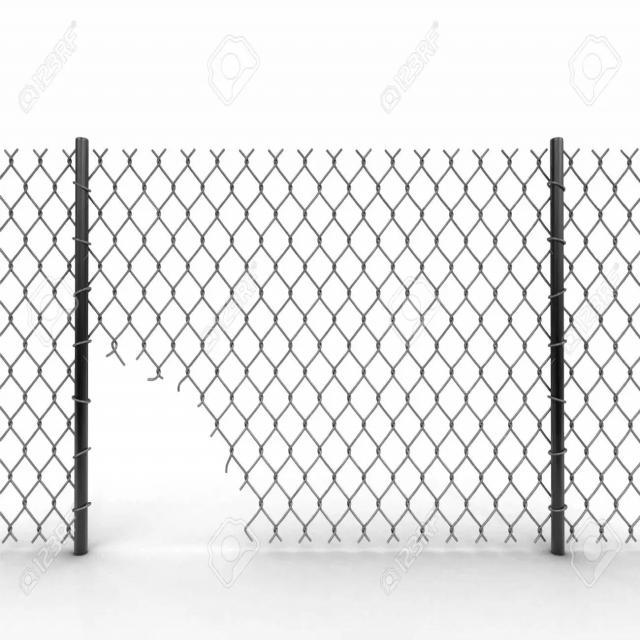fence line: (55, 319, 298, 549)
